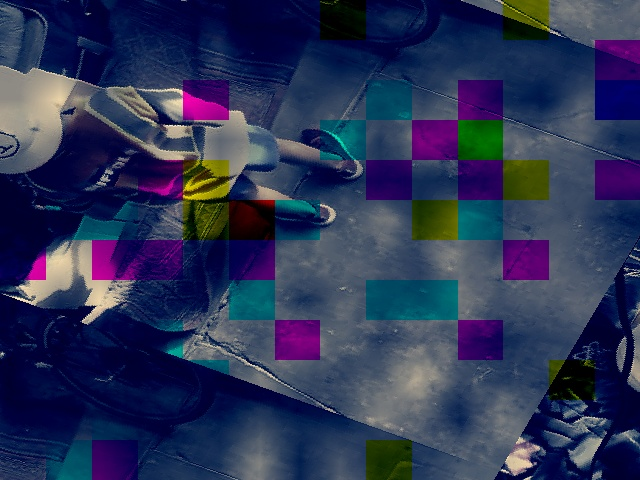one: (0, 123, 23, 165)
